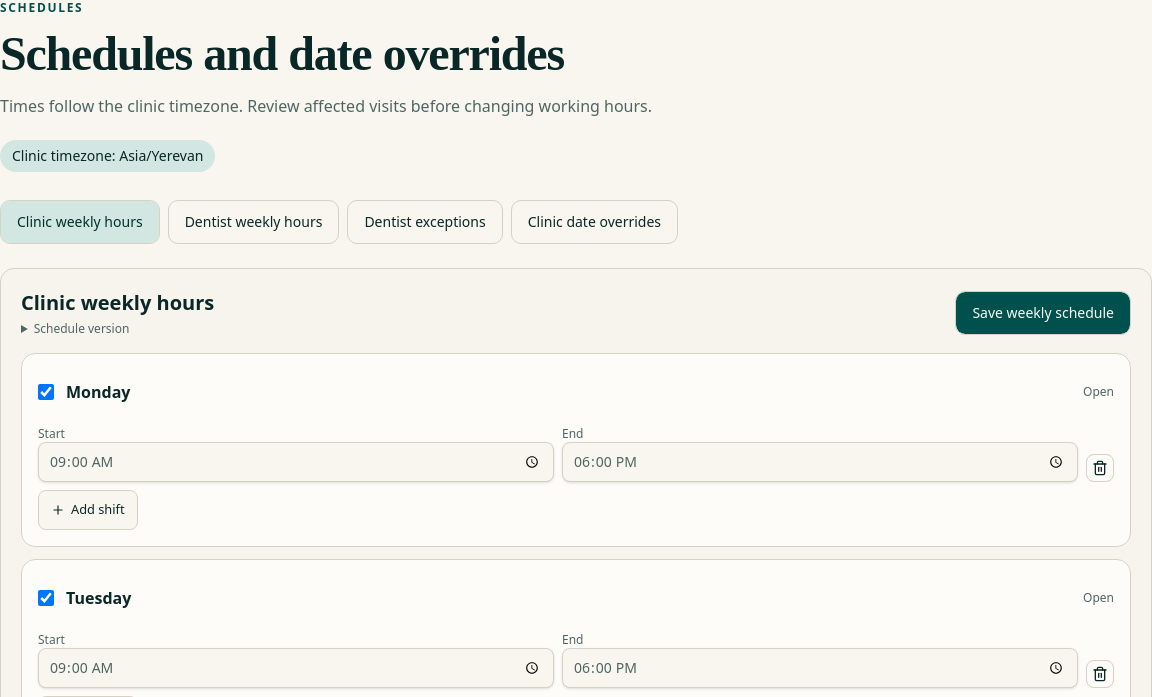
Test: staff schedule management › replays only the frozen weekly proposal after explicit impact acknowledgement
The width and height of the screenshot is (1152, 697).
Expected: the text "Clinic timezone: Asia/Yerevan" is shown, 0,140 -> 215,172
Step 1. Click the button "Save weekly schedule" → click(1043, 313), box 955,291 -> 1131,335
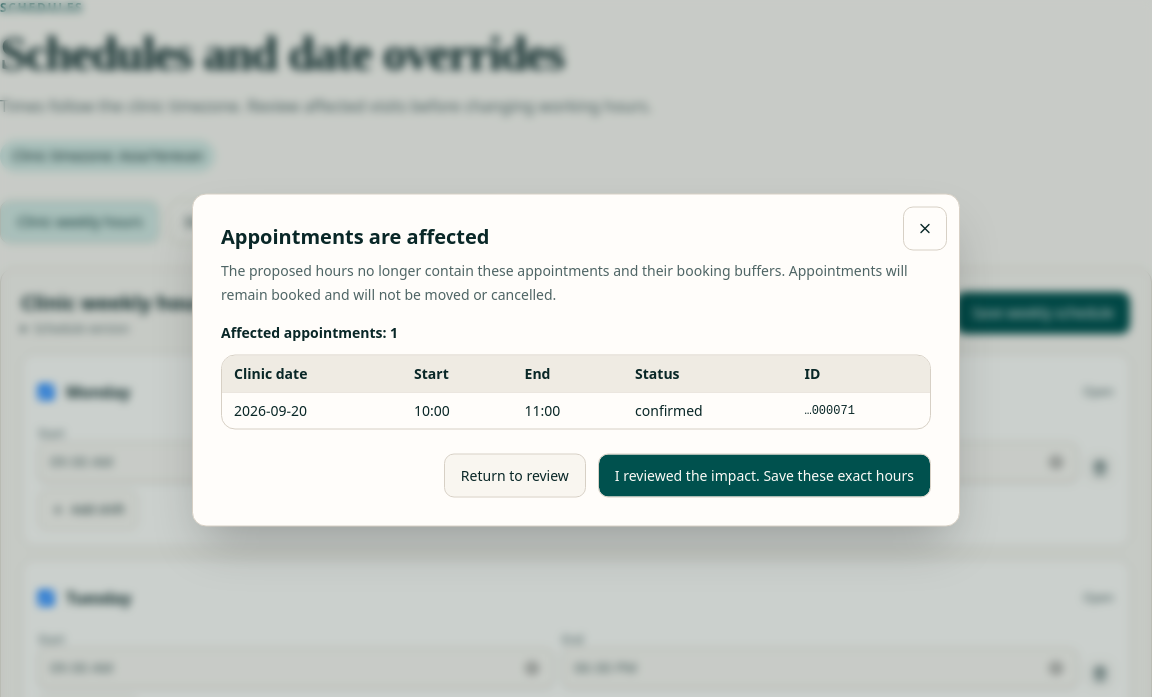
Result: the heading "Appointments are affected" is shown at 221,222 -> 490,250
Result: the text "2026-09-20" is shown at 222,392 -> 402,428
Step 2. Click the button "I reviewed the impact. Save these exact hours" → click(764, 476), box 598,454 -> 931,498
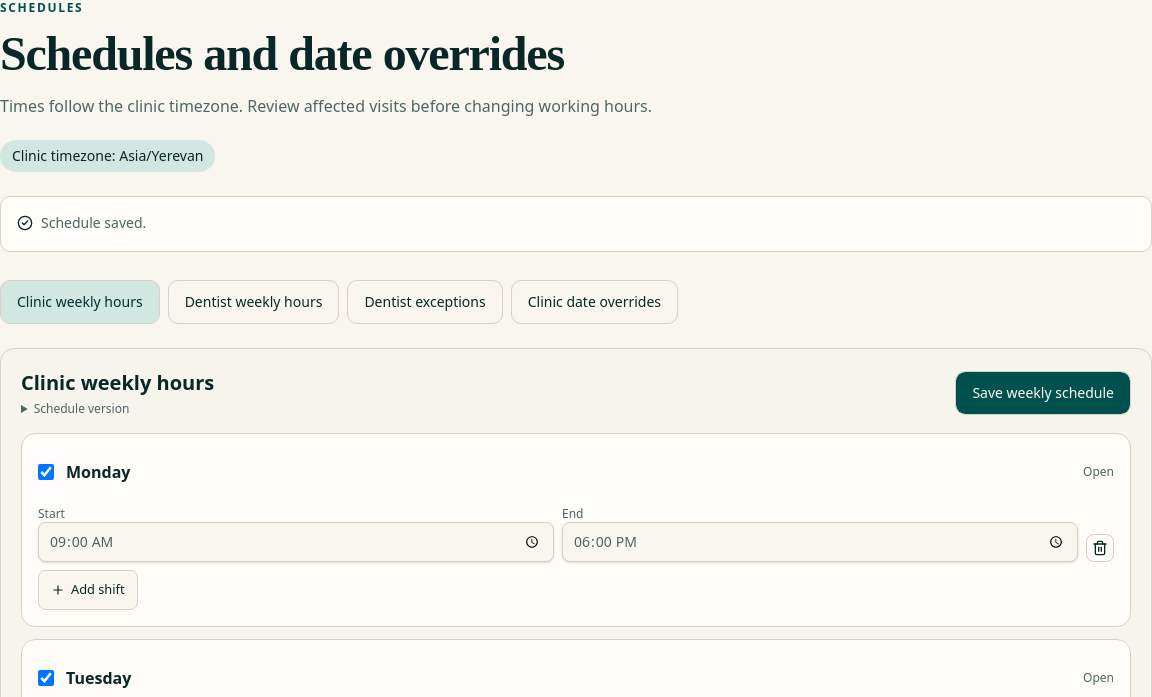
Result: the text "Schedule saved." is shown at 41,213 -> 146,232
